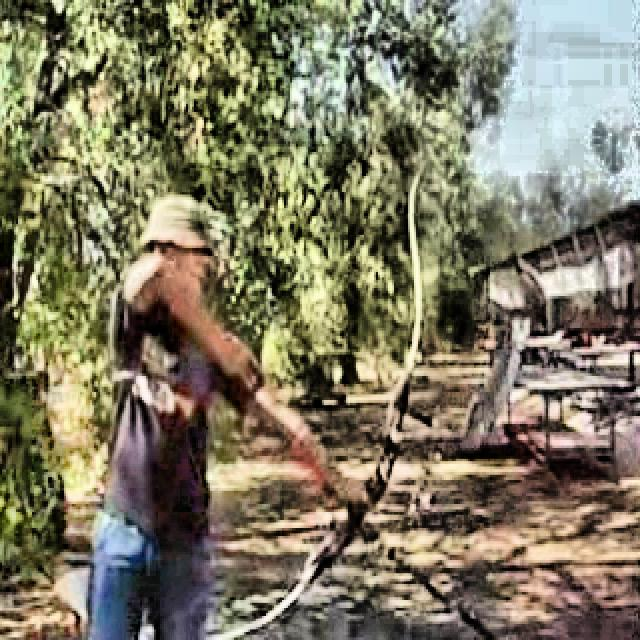I: (59, 182, 383, 640)
